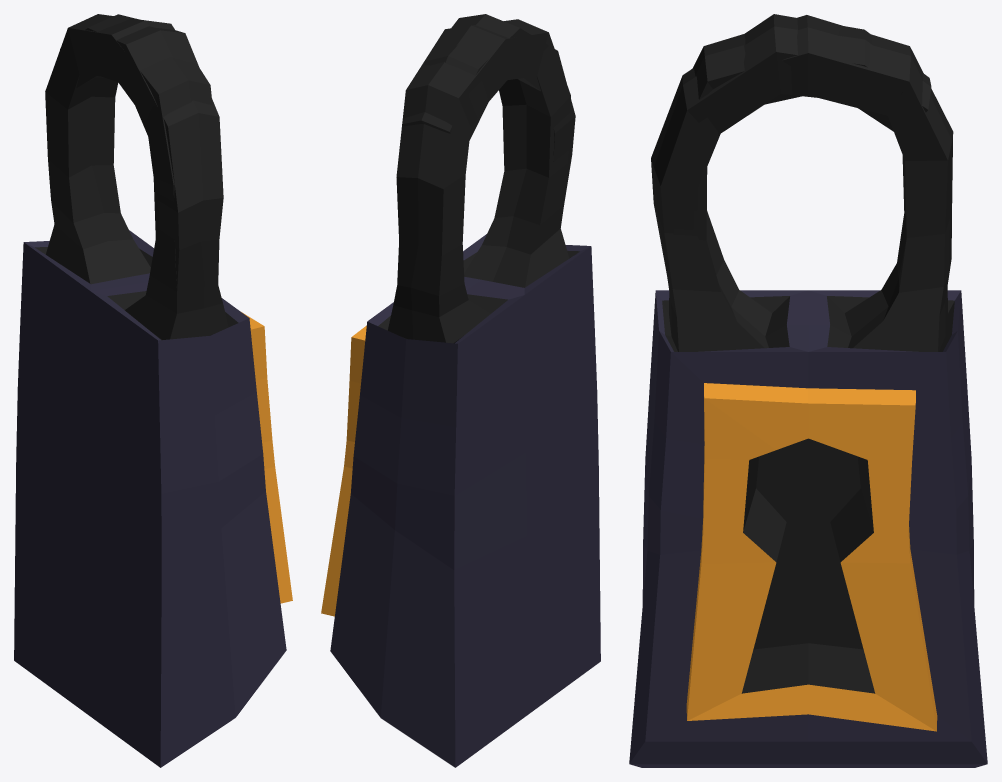
File: Dungeon Lock.fbx
3 views of the same model, side by side, from view 1: azimuth 30°, elevation 25°; view 2: azimuth 150°, elevation 25°; view 3: azimuth 270°, elevation 25° (orthographic). The views are drawn at different scales.
Parts seen in each view (by area): view 1: Dungeon_Door_Lock, Dungeon_Door_Lock_Handle, Dungeon_Door_Lock_Handle.001; view 2: Dungeon_Door_Lock, Dungeon_Door_Lock_Handle, Dungeon_Door_Lock_Handle.001; view 3: Dungeon_Door_Lock, Dungeon_Door_Lock_Handle, Dungeon_Door_Lock_Handle.001.
Boxes of the visible parts, x1,y1,x2,y2 form: Dungeon_Door_Lock: (14, 230, 292, 767); Dungeon_Door_Lock_Handle: (45, 14, 228, 339); Dungeon_Door_Lock_Handle.001: (60, 14, 223, 339); Dungeon_Door_Lock: (321, 234, 600, 767); Dungeon_Door_Lock_Handle: (388, 19, 570, 343); Dungeon_Door_Lock_Handle.001: (402, 14, 575, 287); Dungeon_Door_Lock: (629, 290, 987, 767); Dungeon_Door_Lock_Handle: (667, 15, 953, 351); Dungeon_Door_Lock_Handle.001: (651, 14, 931, 351).
Bounding box in the file's own units: 0.3866 × 0.6945 × 1.65.
